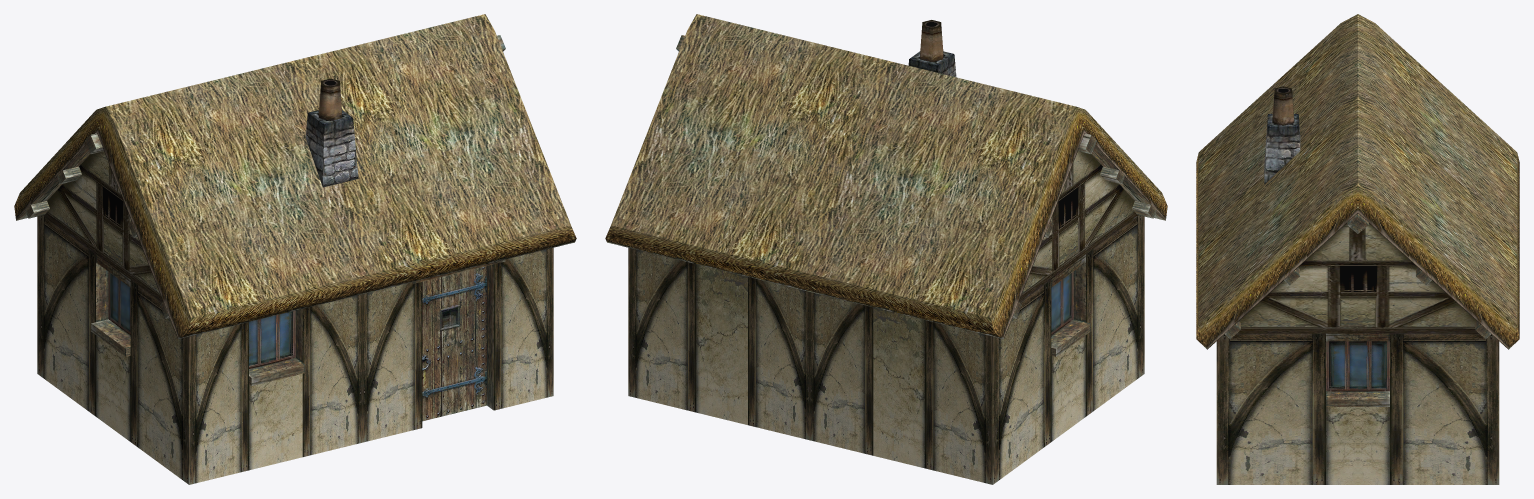
Rendered from S_home26.glb.
The picture shows the model from 3 angles, left to right: view 1: azimuth 30°, elevation 25°; view 2: azimuth 150°, elevation 25°; view 3: azimuth 270°, elevation 25°; orthographic projection. The views are drawn at different scales.
Visible parts, largest first — view 1: S_home26; view 2: S_home26; view 3: S_home26.
Boxes of the visible parts, x1=… form: S_home26: x1=14, y1=14, x2=576, y2=484; S_home26: x1=605, y1=14, x2=1167, y2=484; S_home26: x1=1196, y1=14, x2=1519, y2=484.
Bounding box in the file's own units: 6.86 × 5.32 × 5.04.
Materials: 9 (9 with a texture image).
